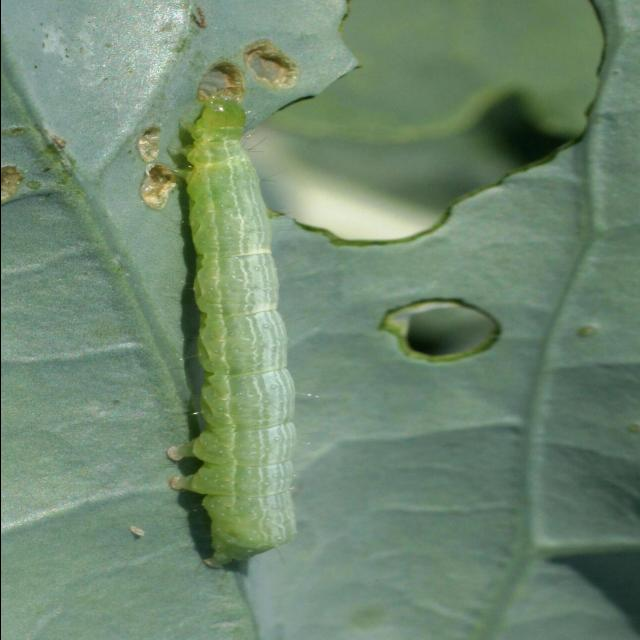looper: (146, 86, 298, 578)
